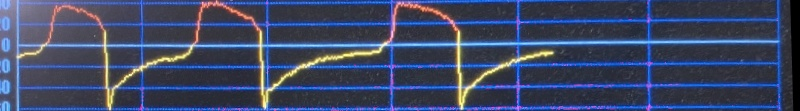normal_flow: (16, 0, 569, 111)
